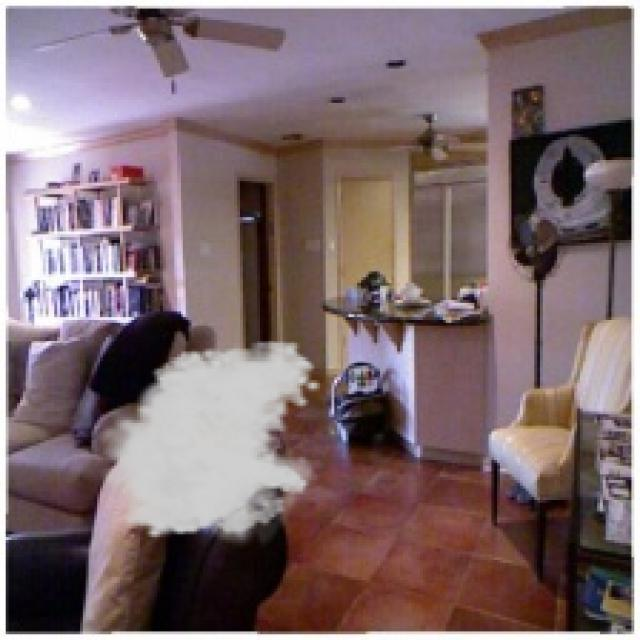smoke: (91, 337, 323, 552)
